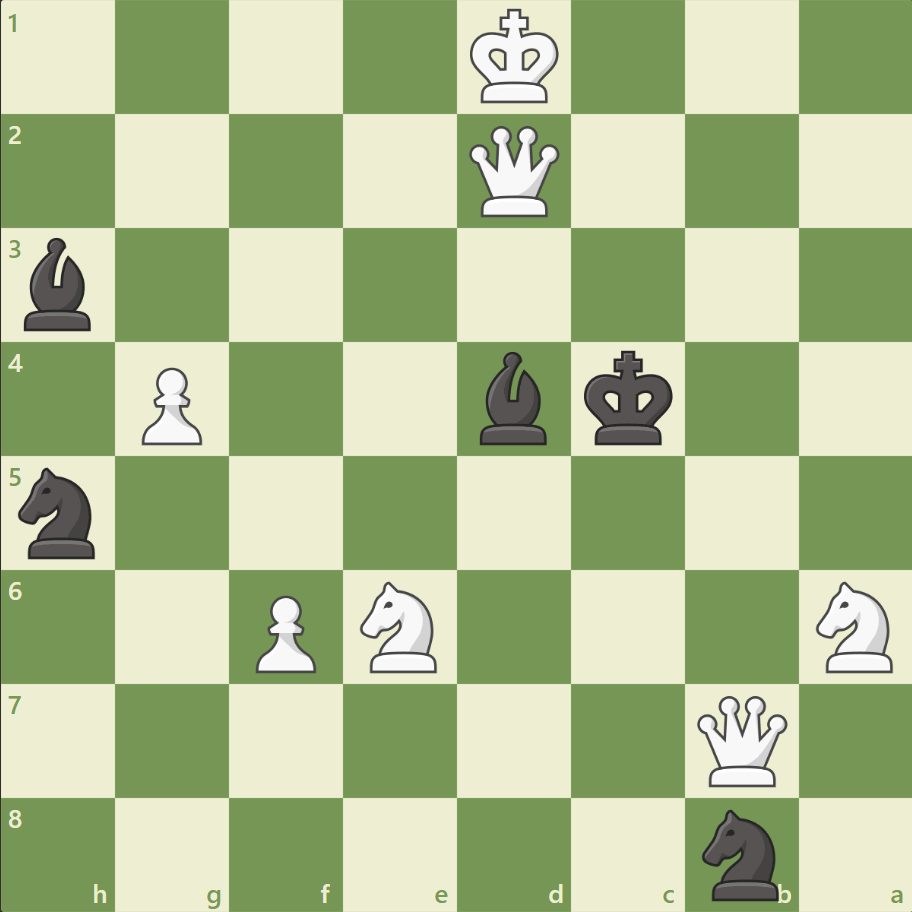K: (465, 4, 565, 112)
N: (351, 575, 449, 677), (806, 575, 903, 677)
P: (247, 586, 322, 677), (133, 359, 208, 450)
Q: (464, 122, 563, 222), (691, 690, 790, 789)
b: (17, 233, 101, 336), (471, 347, 555, 449)
k: (579, 344, 679, 452)
n: (11, 461, 108, 564), (692, 802, 789, 904)
